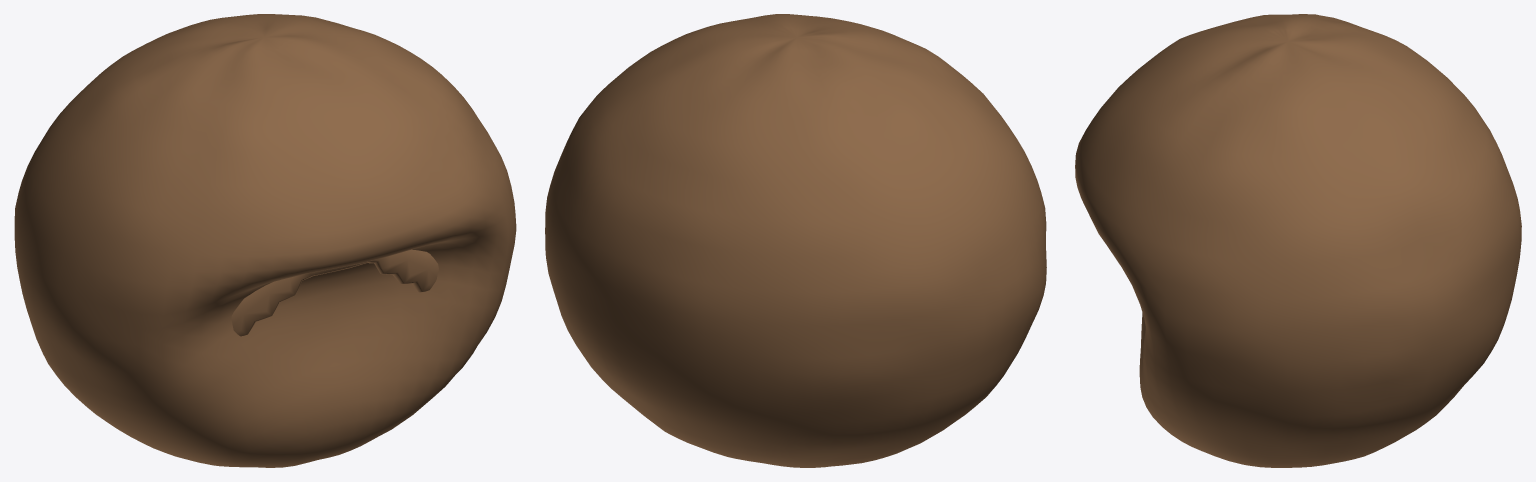
Rendered from m_afro.glb.
3 views of the same model, side by side, from view 1: azimuth 30°, elevation 25°; view 2: azimuth 150°, elevation 25°; view 3: azimuth 270°, elevation 25° (orthographic).
Visible parts, largest first — view 1: m_afro_puff, m_afro; view 2: m_afro_puff; view 3: m_afro_puff.
Part boxes in pixels (x1=…): m_afro_puff: x1=14, y1=14, x2=516, y2=467; m_afro: x1=231, y1=249, x2=438, y2=336; m_afro_puff: x1=545, y1=14, x2=1046, y2=467; m_afro_puff: x1=1075, y1=14, x2=1521, y2=467.
Size of the model in its own units: 2.78 by 2.47 by 2.46.
